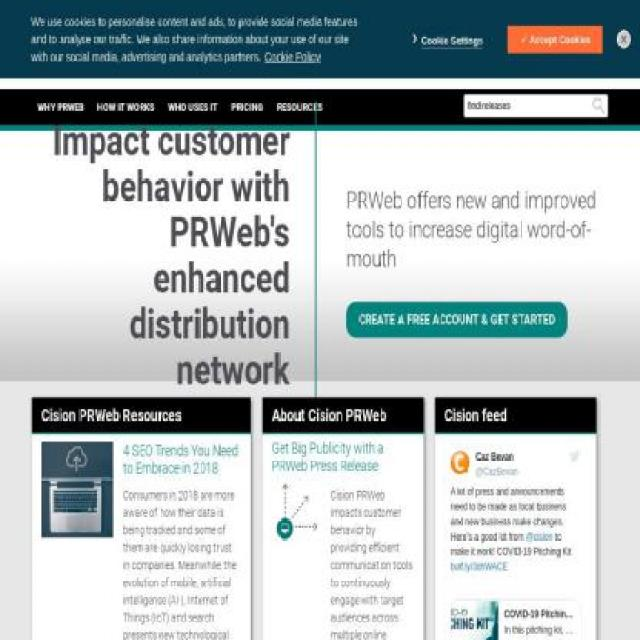button: (346, 300, 568, 338), (464, 44, 608, 74), (32, 27, 132, 70), (274, 45, 363, 67), (97, 98, 155, 116), (516, 8, 561, 30), (566, 8, 608, 30), (422, 34, 483, 49), (168, 98, 218, 116), (37, 98, 85, 116), (276, 98, 324, 116), (222, 45, 260, 67), (378, 45, 412, 67), (230, 98, 264, 116)
field: (464, 94, 608, 118)
